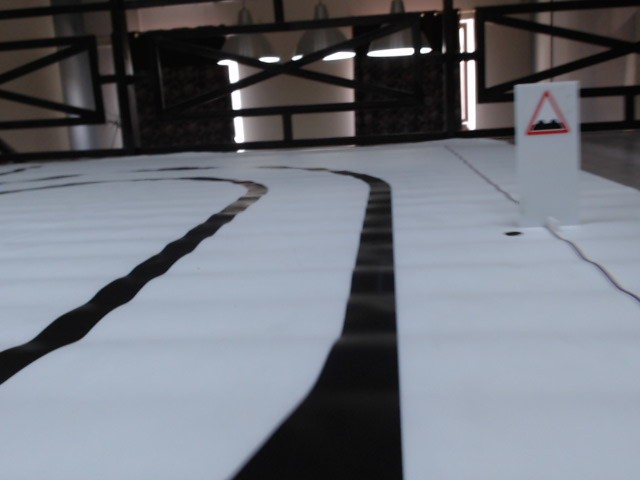Nerov: (521, 89, 574, 138)
